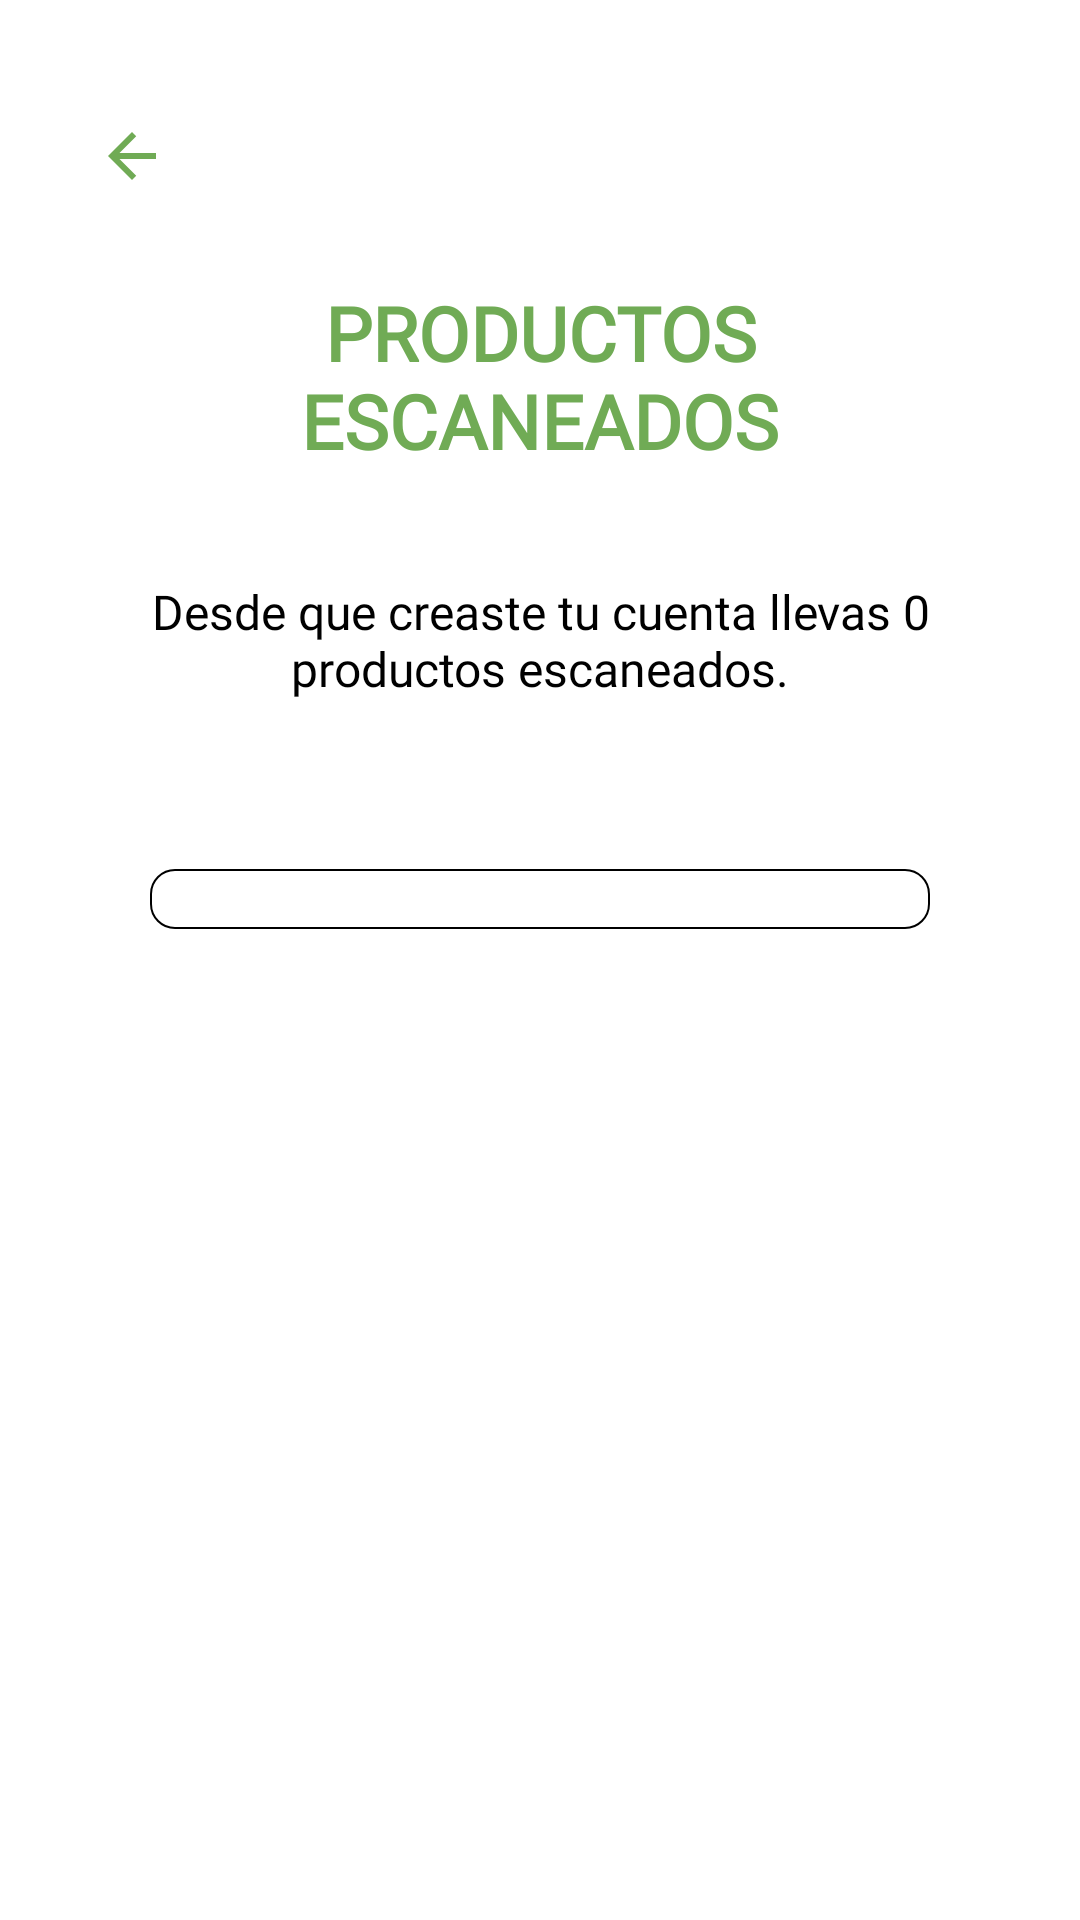

Icon click points for this 1080w x 1920h phone screenshot, format (x=x, y=y):
Volver: (x=132, y=156)
